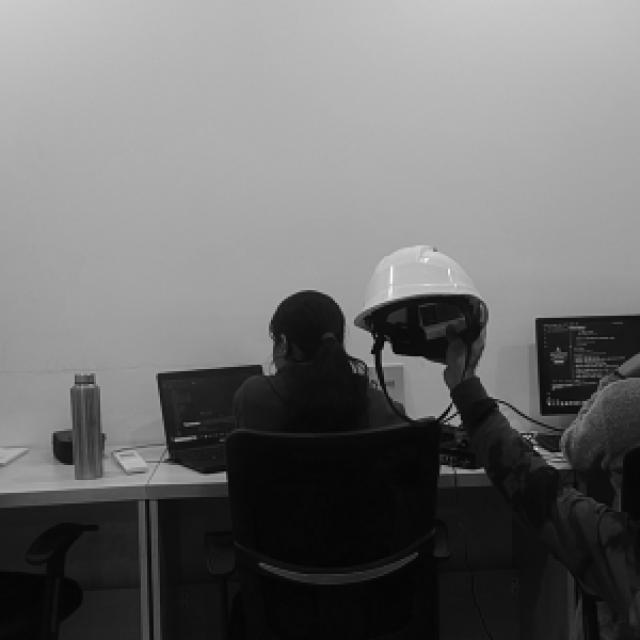safety_helmet: (355, 245, 488, 331)
